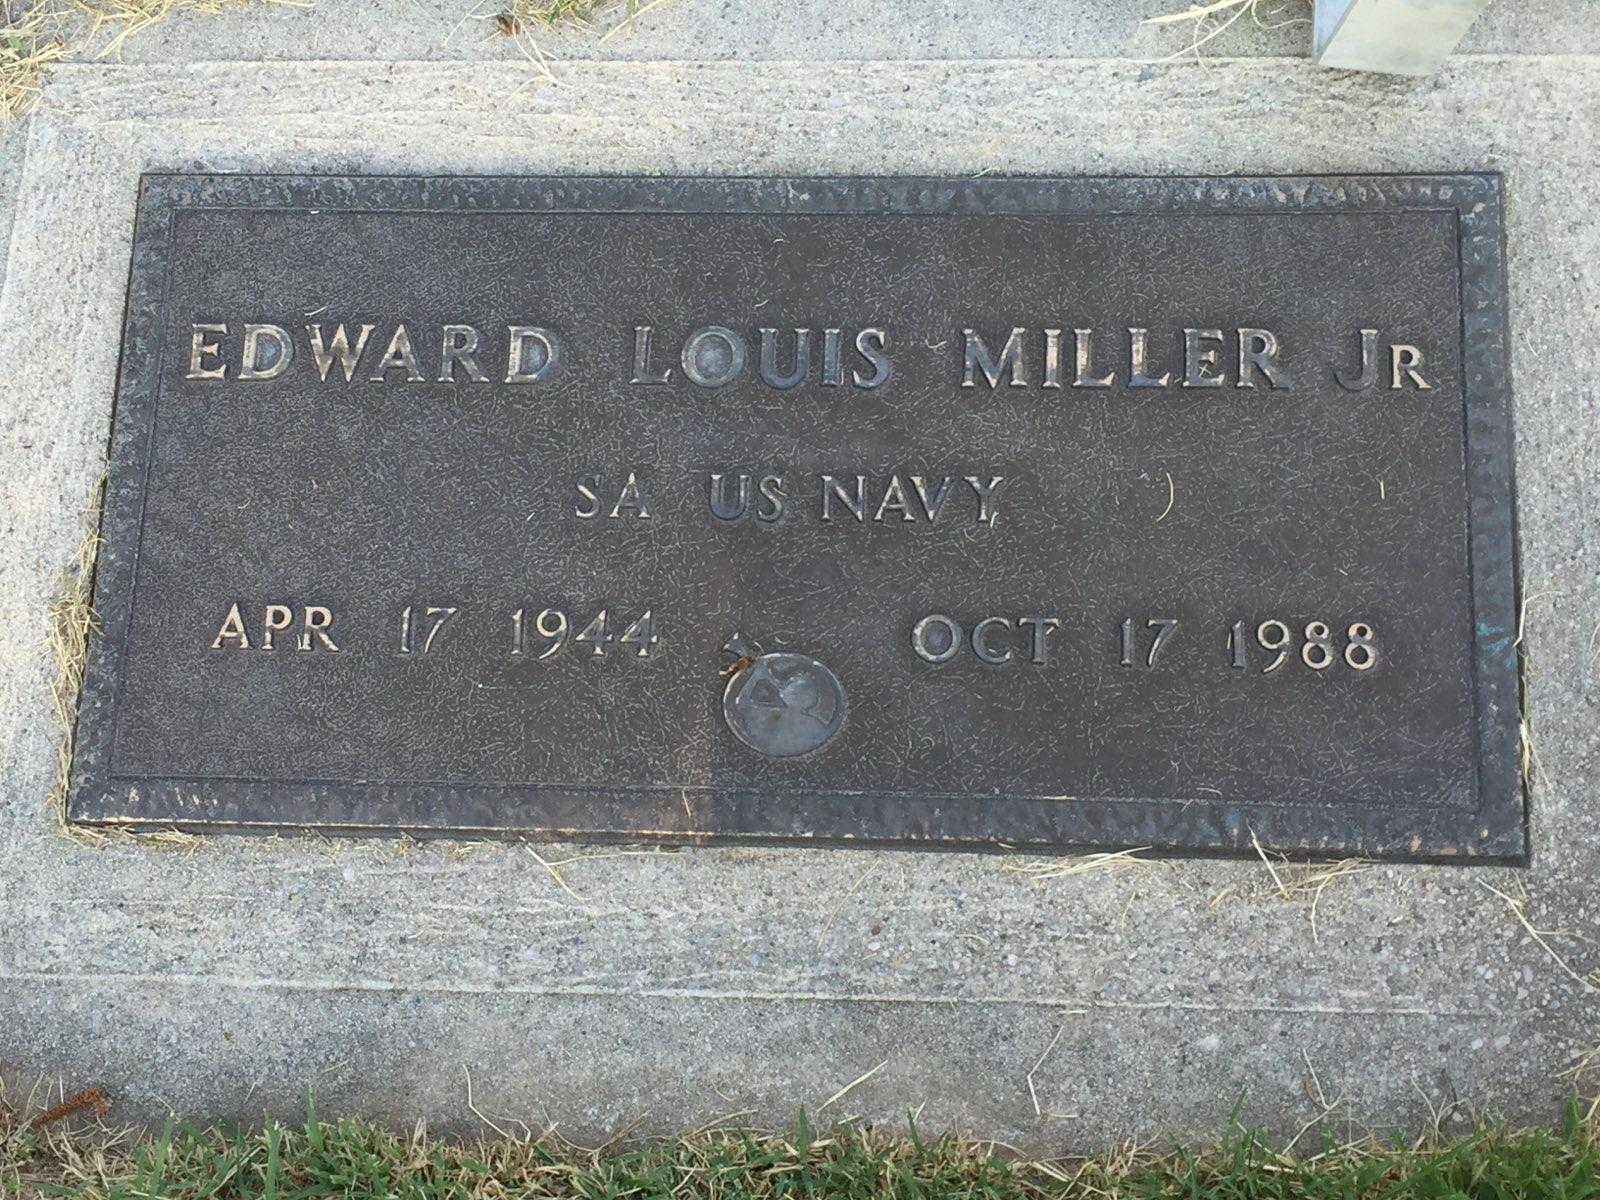flat: (66, 164, 1528, 868)
